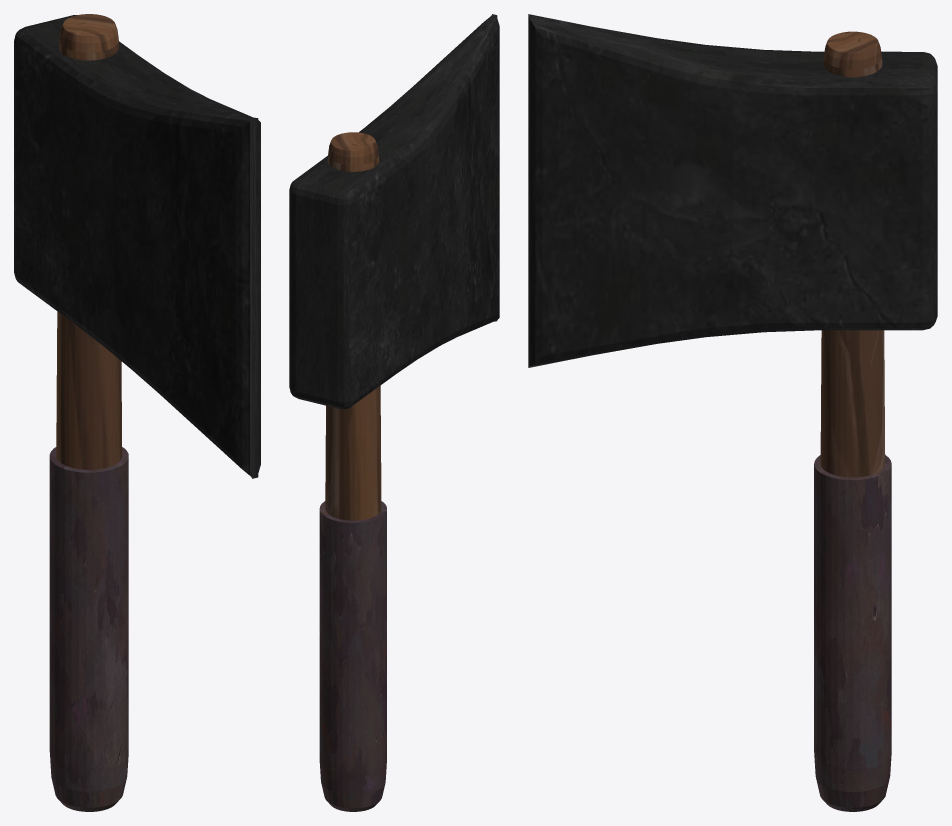
The model's file is axe.fbx.
The picture shows the model from 3 angles, left to right: view 1: azimuth 30°, elevation 25°; view 2: azimuth 150°, elevation 25°; view 3: azimuth 270°, elevation 25°; orthographic projection. The views are drawn at different scales.
Parts seen in each view (by area): view 1: Cube, Cylinder.001, Cylinder; view 2: Cube, Cylinder.001, Cylinder; view 3: Cube, Cylinder.001, Cylinder.
Boxes of the visible parts, <box> form: Cube: <box>14,15,260,478</box>; Cylinder.001: <box>49,447,128,811</box>; Cylinder: <box>56,14,122,469</box>; Cube: <box>289,14,499,409</box>; Cylinder.001: <box>319,501,386,811</box>; Cylinder: <box>325,132,381,520</box>; Cube: <box>528,14,937,367</box>; Cylinder.001: <box>814,455,891,811</box>; Cylinder: <box>820,31,885,477</box>.
Bounding box in the file's own units: 60.75 × 621 × 294.
